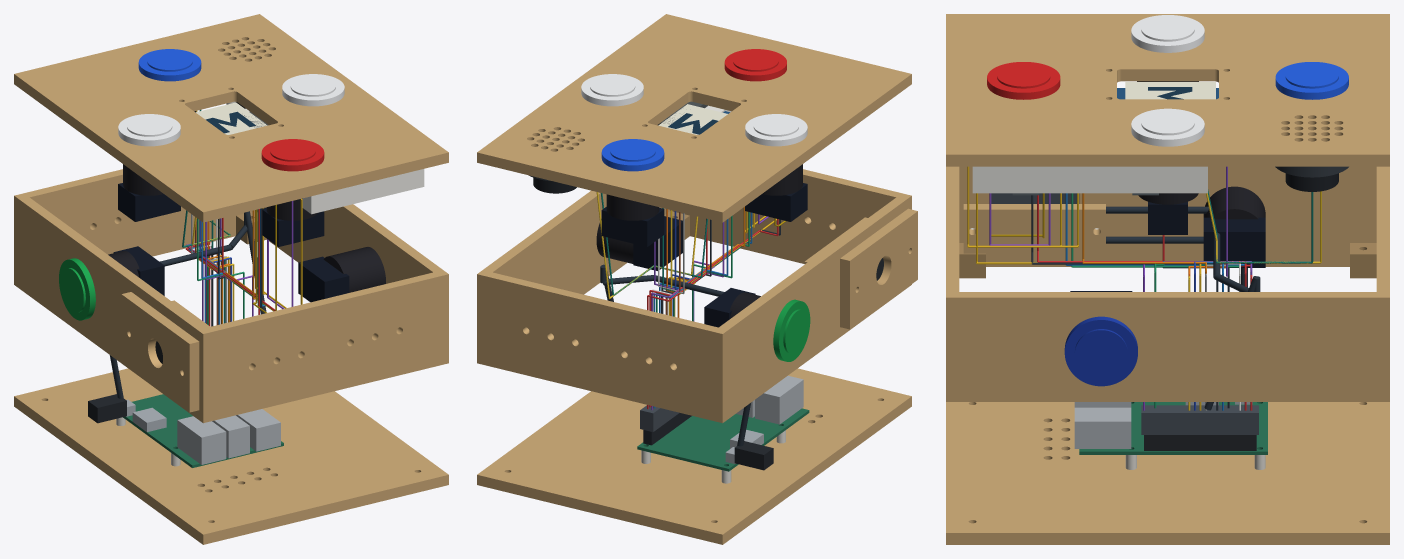
The model's file is exploded.glb.
3 renders of one model, left to right at view 1: azimuth 30°, elevation 25°; view 2: azimuth 150°, elevation 25°; view 3: azimuth 270°, elevation 25°, orthographic. The views are drawn at different scales.
Parts seen in each view (by area): view 1: exploded (×20); view 2: exploded (×18); view 3: exploded (×23).
Part boxes in pixels (x1,y1,x2,y2): exploded (×20): [14, 14, 448, 544]; exploded (×18): [477, 14, 917, 544]; exploded (×23): [946, 14, 1389, 544].
Size of the model in its own units: 0.1608 by 0.1985 by 0.2.
